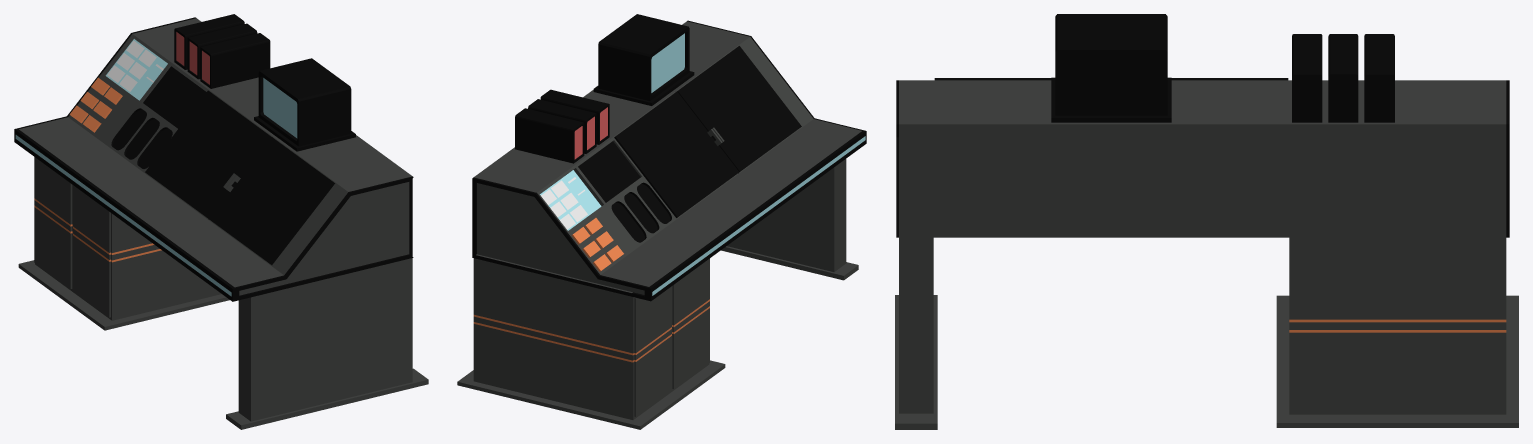
The model's file is station_04.fbx.
3 renders of one model, left to right at view 1: azimuth 30°, elevation 25°; view 2: azimuth 150°, elevation 25°; view 3: azimuth 270°, elevation 25°, orthographic. The views are drawn at different scales.
Visible parts, largest first — view 1: station_04; view 2: station_04; view 3: station_04.
Part boxes in pixels (x1,y1,x2,y2): station_04: (14,14,428,429); station_04: (457,14,866,429); station_04: (895,14,1518,429).
Bounding box in the file's own units: 1.02 × 2.01 × 1.3.
